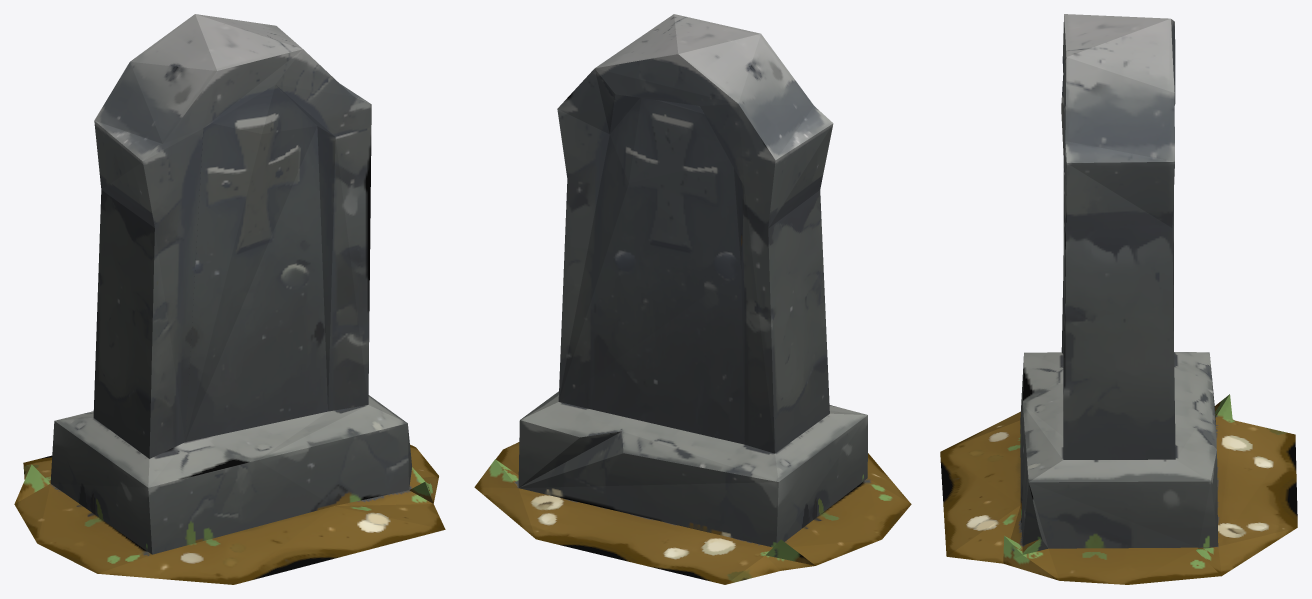
Rendered from tombstone_lod1.glb.
The picture shows the model from 3 angles, left to right: view 1: azimuth 30°, elevation 25°; view 2: azimuth 150°, elevation 25°; view 3: azimuth 270°, elevation 25°; orthographic projection. The views are drawn at different scales.
Parts seen in each view (by area): view 1: geometry_0; view 2: geometry_0; view 3: geometry_0.
Boxes of the visible parts, box(x1,y1,x2,y2) form: geometry_0: box(14, 14, 445, 584); geometry_0: box(474, 14, 911, 584); geometry_0: box(940, 14, 1297, 584).
Size of the model in its own units: 0.7846 by 0.9212 by 0.633.
1 material, 1 textured.
